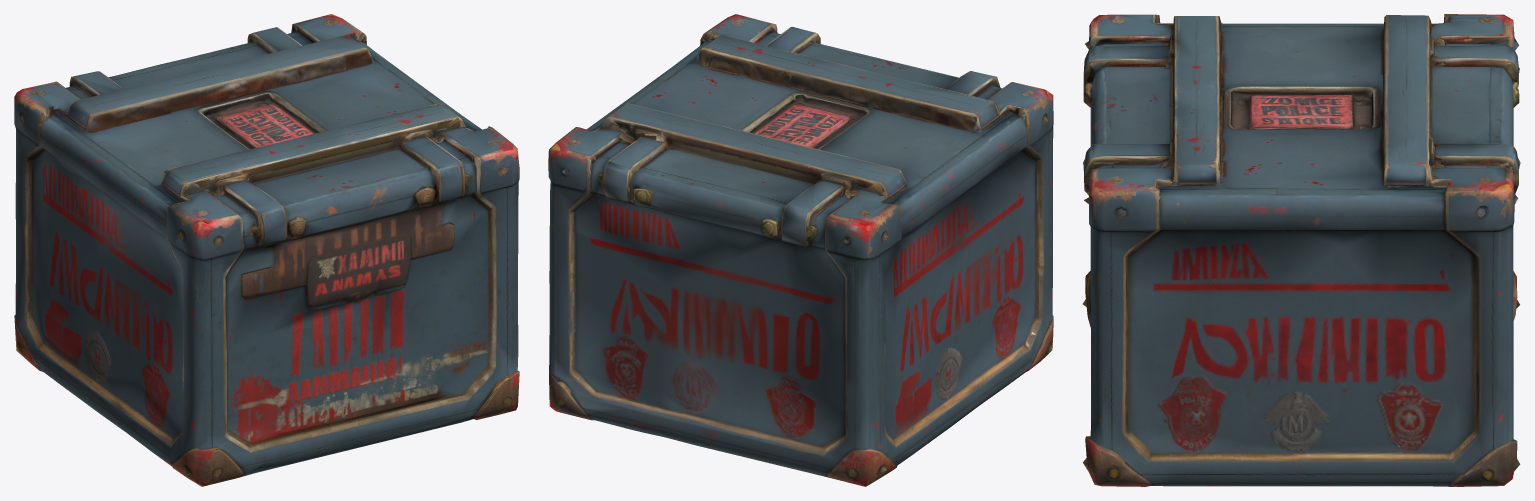
The model's file is max-ammo.glb.
3 views of the same model, side by side, from view 1: azimuth 30°, elevation 25°; view 2: azimuth 150°, elevation 25°; view 3: azimuth 270°, elevation 25° (orthographic). The views are drawn at different scales.
Bounding box in the file's own units: 2.01 × 1.6 × 2.01.
Materials: 1 (1 with a texture image).
